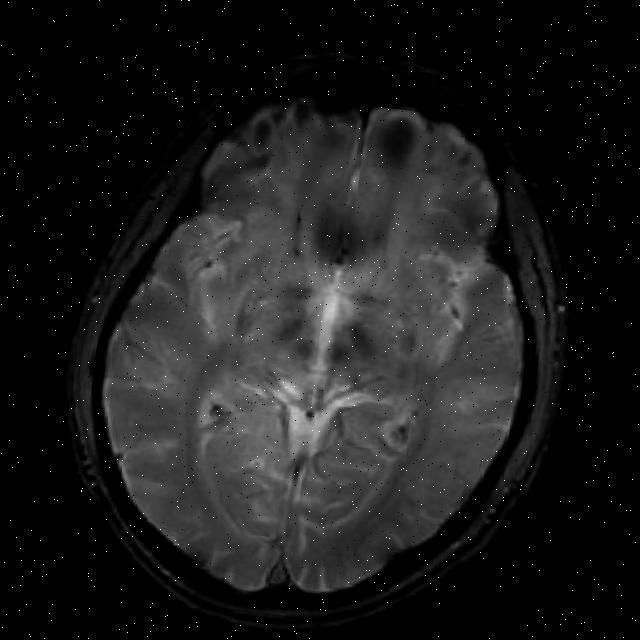LMCI: (300, 172, 380, 268), (366, 105, 426, 183)
